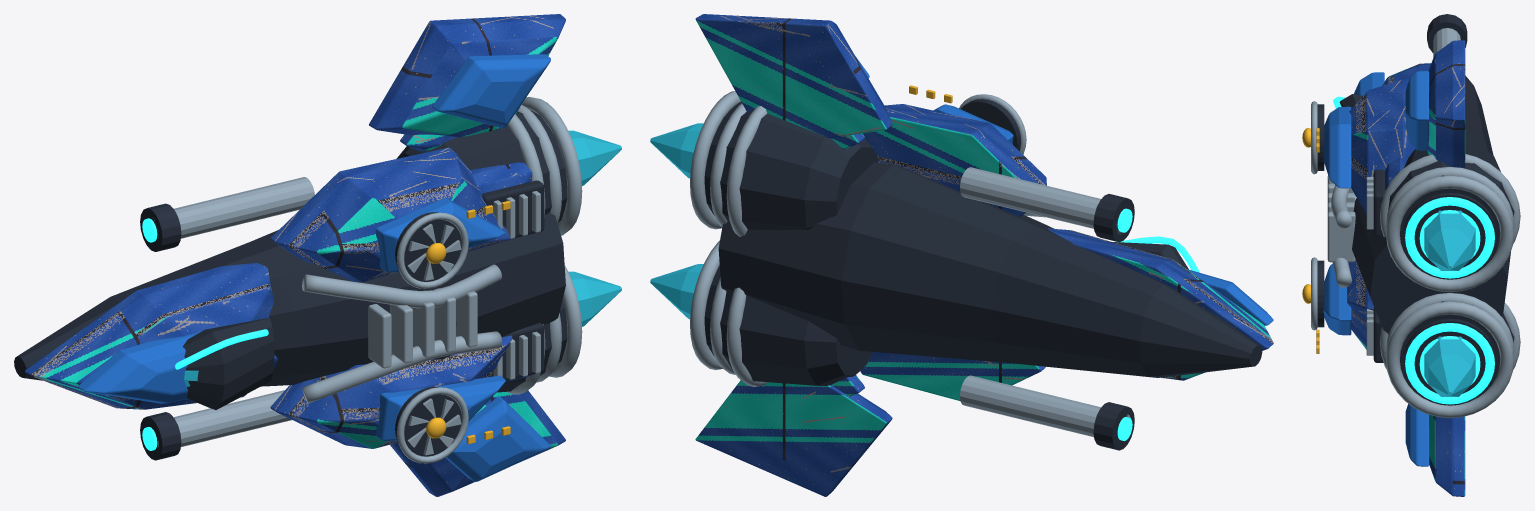
Rendered from chaser.glb.
3 renders of one model, left to right at view 1: azimuth 30°, elevation 25°; view 2: azimuth 150°, elevation 25°; view 3: azimuth 270°, elevation 25°, orthographic. The views are drawn at different scales.
Visible parts, largest first — view 1: Surface_armor, Surface_dark, Surface_steel, Surface_light, Surface_glass, Surface_glow, Surface_warning; view 2: Surface_dark, Surface_armor, Surface_steel, Surface_glass, Surface_light, Surface_glow; view 3: Surface_steel, Surface_dark, Surface_armor, Surface_light, Surface_glow, Surface_glass, Surface_warning.
Part boxes in pixels (x1,y1,x2,y2): Surface_armor: (24,14,565,496); Surface_dark: (14,110,567,460); Surface_steel: (152,97,582,463); Surface_light: (78,54,550,481); Surface_glass: (184,130,621,386); Surface_glow: (142,218,268,450); Surface_warning: (426,201,510,444); Surface_dark: (704,99,1262,450); Surface_armor: (695,14,1273,496); Surface_steel: (690,91,1130,437); Surface_glass: (650,123,703,319); Surface_light: (855,56,1273,325); Surface_glow: (1116,208,1199,440); Surface_steel: (1311,28,1520,418); Surface_dark: (1317,14,1514,405); Surface_armor: (1347,40,1465,496); Surface_light: (1323,71,1429,466); Surface_glow: (1333,96,1494,404); Surface_glass: (1424,210,1475,396); Surface_warning: (1302,128,1319,353).
Size of the model in its own units: 2.15 by 1.6 by 0.7488.
Materials: 7 (1 with a texture image).
